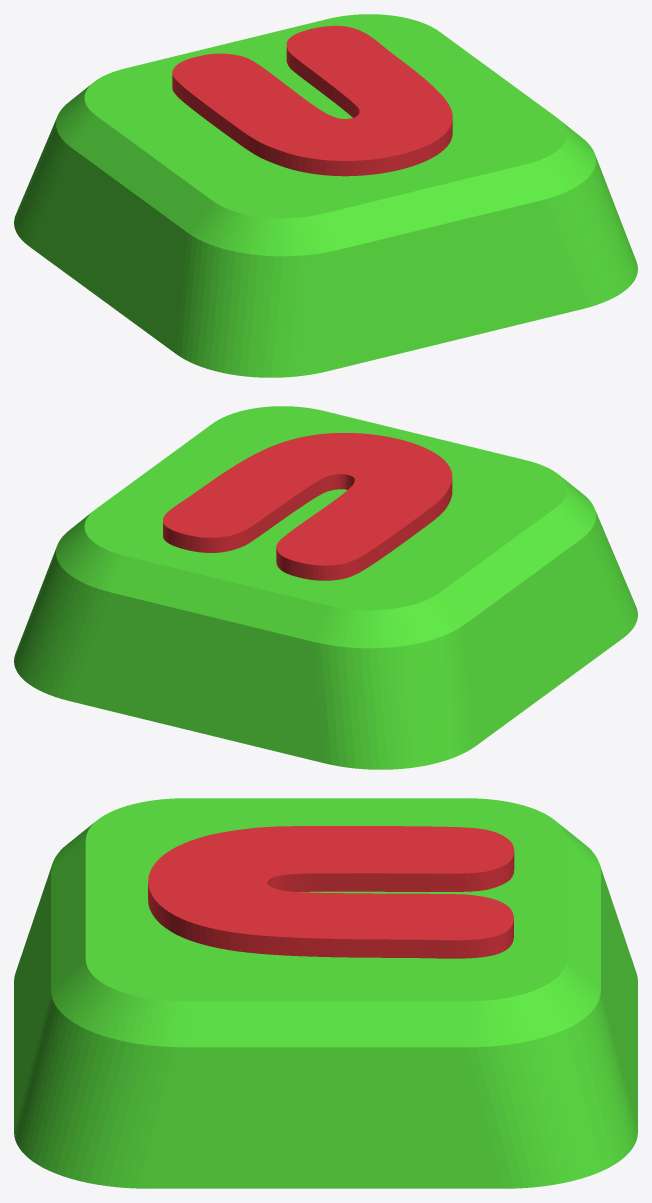
3 renders of one model, top to bottom at view 1: azimuth 30°, elevation 25°; view 2: azimuth 150°, elevation 25°; view 3: azimuth 270°, elevation 25°, orthographic. The views are drawn at different scales.
Visible parts, largest first — view 1: CAPS_U, FONT_U; view 2: CAPS_U, FONT_U; view 3: CAPS_U, FONT_U.
Boxes of the visible parts, x1,y1,x2,y2 form: CAPS_U: (14,14,637,377); FONT_U: (172,25,452,176); CAPS_U: (14,406,637,769); FONT_U: (163,433,452,580); CAPS_U: (14,798,637,1188); FONT_U: (148,826,514,958).
Size of the model in its own units: 18 by 5.59 by 18.
